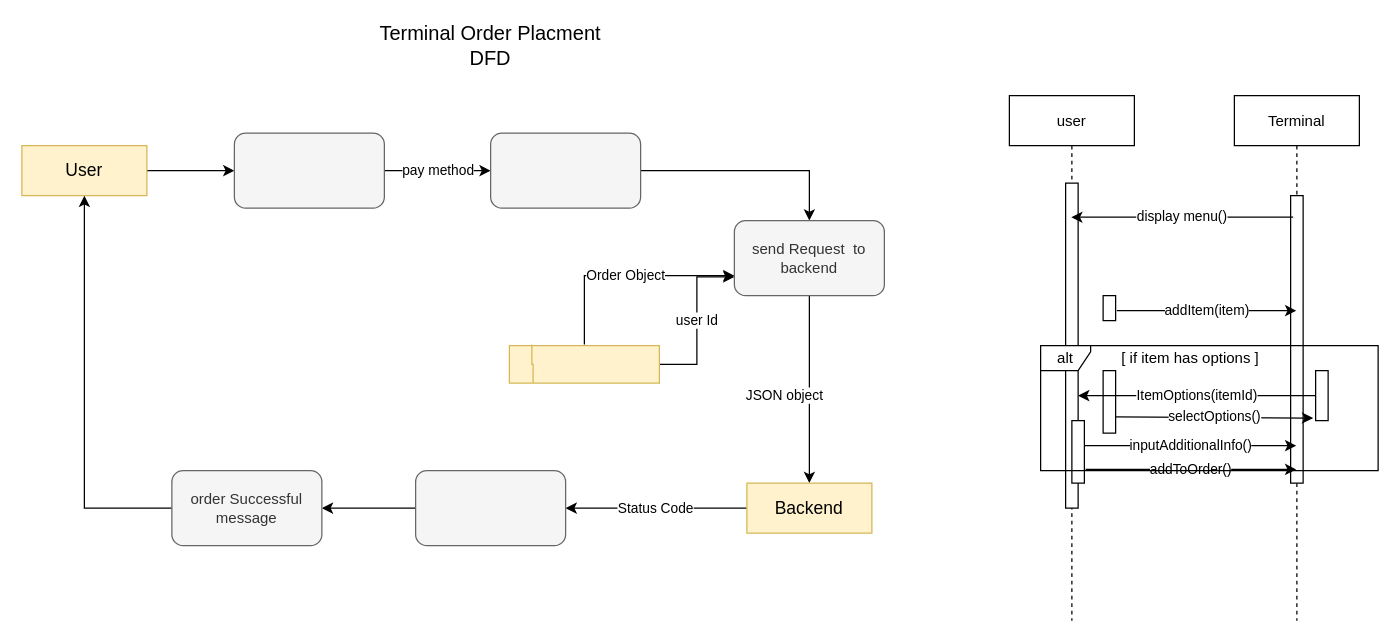
The diagram is 1400 pixels wide and 643 high, and some of its shapes have lost their labels. Here are the shapes that lost their labels. From the top down, the centre of each, then its label:
At point (308, 170): "Submit Order".
At point (565, 170): "select Paymeny Method".
At point (583, 363): "Local Storage".
At point (490, 507): "Wait for backend notification".
